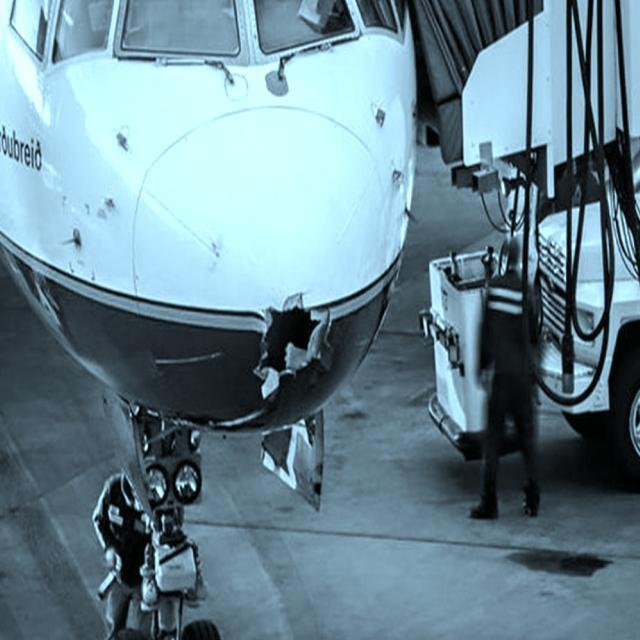crack: (252, 292, 335, 389)
